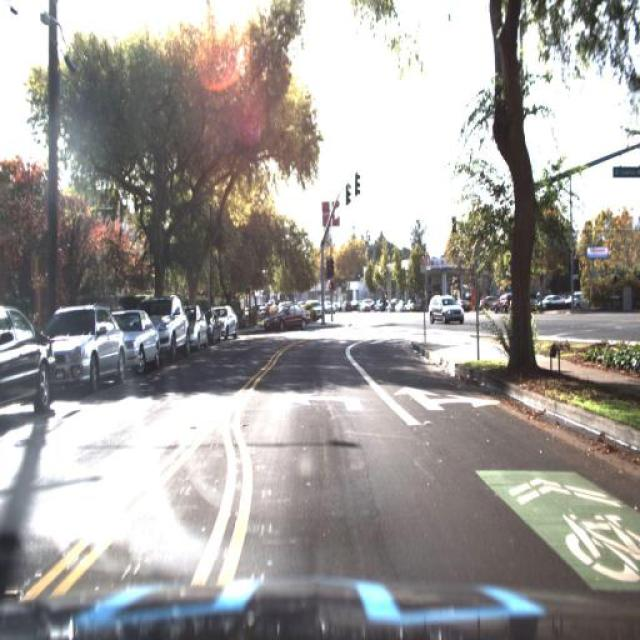car: (55, 297, 127, 398), (0, 305, 56, 427), (122, 303, 159, 372), (159, 294, 192, 364), (259, 298, 313, 336), (424, 287, 468, 329), (188, 302, 211, 352), (223, 296, 245, 344), (305, 292, 330, 322), (208, 300, 222, 349), (536, 290, 565, 311)
